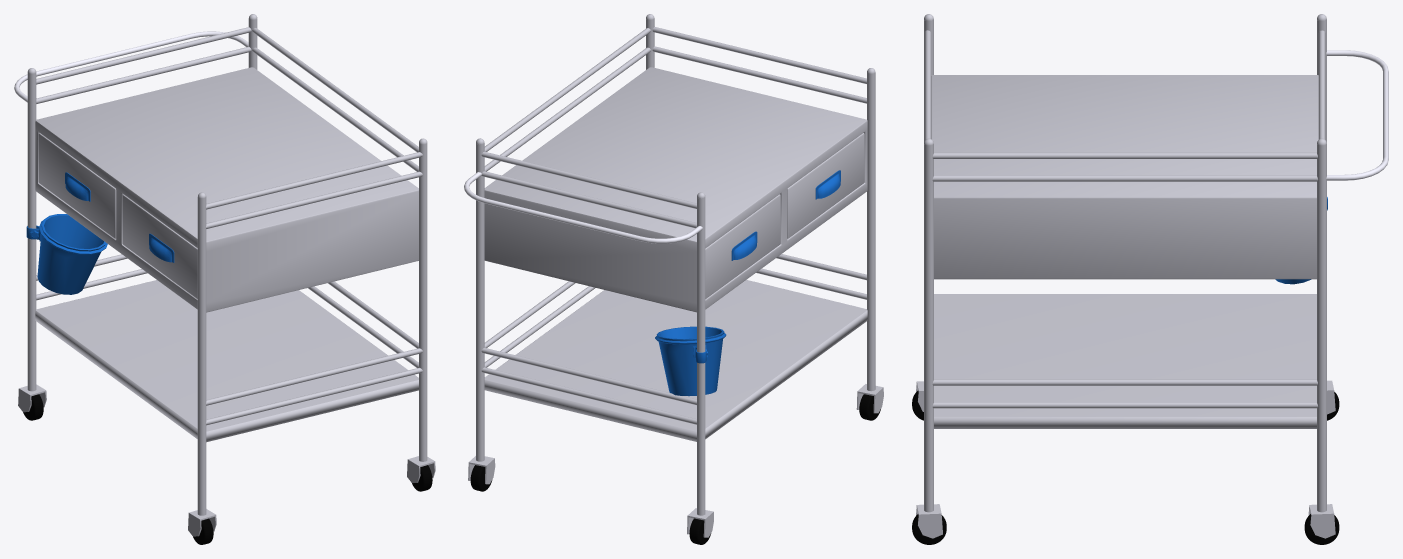
The model's file is EH Lab Cart.fbx.
The picture shows the model from 3 angles, left to right: view 1: azimuth 30°, elevation 25°; view 2: azimuth 150°, elevation 25°; view 3: azimuth 270°, elevation 25°; orthographic projection. The views are drawn at different scales.
Parts seen in each view (by area): view 1: Drawers, Bottom Flat, Cylinder026, Cylinder002, Cylinder001, Cylinder004, Cylinder009, Cylinder016, Cylinder010, Cylinder015, Cylinder008, Cylinder007 (+6 smaller); view 2: Drawers, Bottom Flat, Cylinder026, Cylinder002, Cylinder003, Cylinder001, Line001, Cylinder008, Cylinder007, Cylinder013, Cylinder014, Cylinder009 (+7 smaller); view 3: Drawers, Bottom Flat, Cylinder003, Cylinder004, Cylinder011, Cylinder005, Cylinder012, Cylinder006, Line001, Cylinder008, Cylinder010, Box025 (+1 smaller).
Part boxes in pixels (x1,y1,x2,y2): Drawers: (35,67,418,312); Bottom Flat: (35,280,418,442); Cylinder026: (37,214,107,294); Cylinder002: (197,197,206,515); Cylinder001: (27,73,36,391); Cylinder004: (419,143,427,461); Cylinder009: (206,171,422,228); Cylinder016: (206,348,422,405); Cylinder010: (206,152,422,209); Cylinder015: (206,367,422,425); Cylinder008: (36,27,251,84); Cylinder007: (36,46,251,103); Drawers: (484,67,867,312); Bottom Flat: (484,280,867,441); Cylinder026: (655,326,726,396); Cylinder002: (867,72,875,391); Cylinder003: (476,142,484,461); Cylinder001: (697,197,705,515); Line001: (464,172,702,243); Cylinder008: (481,151,696,208); Cylinder007: (481,171,696,228); Cylinder013: (481,367,696,424); Cylinder014: (481,347,696,405); Cylinder009: (652,46,866,103); Drawers: (931,75,1318,279); Bottom Flat: (934,294,1316,428); Cylinder003: (1317,144,1326,512); Cylinder004: (924,144,933,512); Cylinder011: (932,402,1317,408); Cylinder005: (932,175,1317,181); Cylinder012: (932,379,1317,385); Cylinder006: (932,152,1317,158); Line001: (1326,50,1388,180); Cylinder008: (1318,30,1325,139); Cylinder010: (924,30,930,140); Box025: (1308,504,1335,538).
Bounding box in the file's own units: 23.06 × 32.51 × 34.67.
